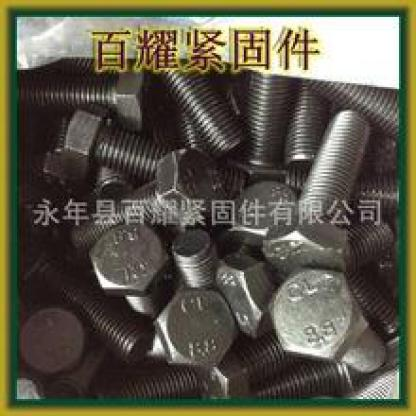FOD: (63, 148, 226, 252), (266, 113, 370, 275), (18, 60, 154, 130)
